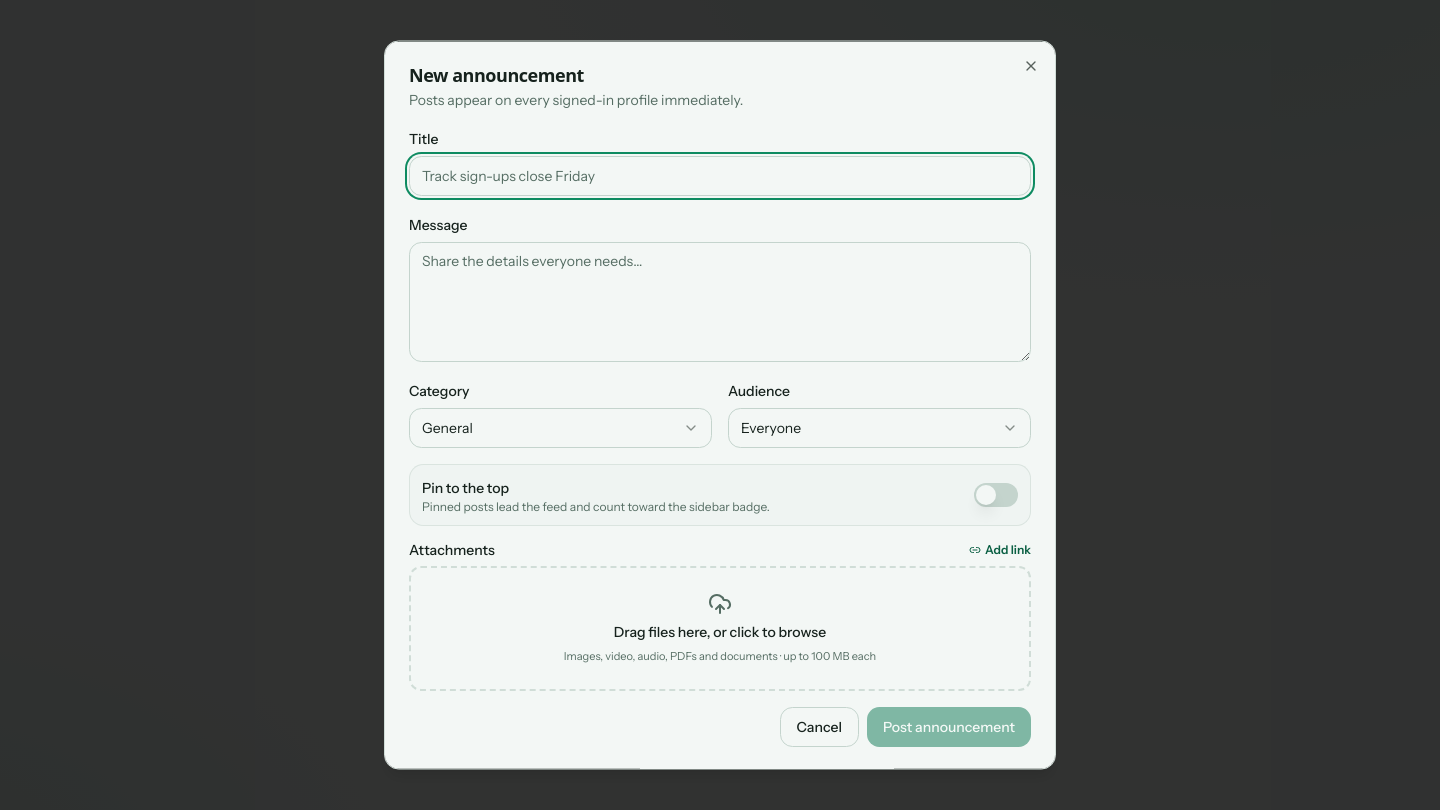
Test case: AnnouncementComposer › requires a title and body before posting
The width and height of the screenshot is (1440, 810).
Expected: the button "Post announcement" is disabled, [867,706,1031,746]
Step 1. Type "Track sign-ups close" into the field labelled "Title" → (720, 176), box [409,156,1031,196]
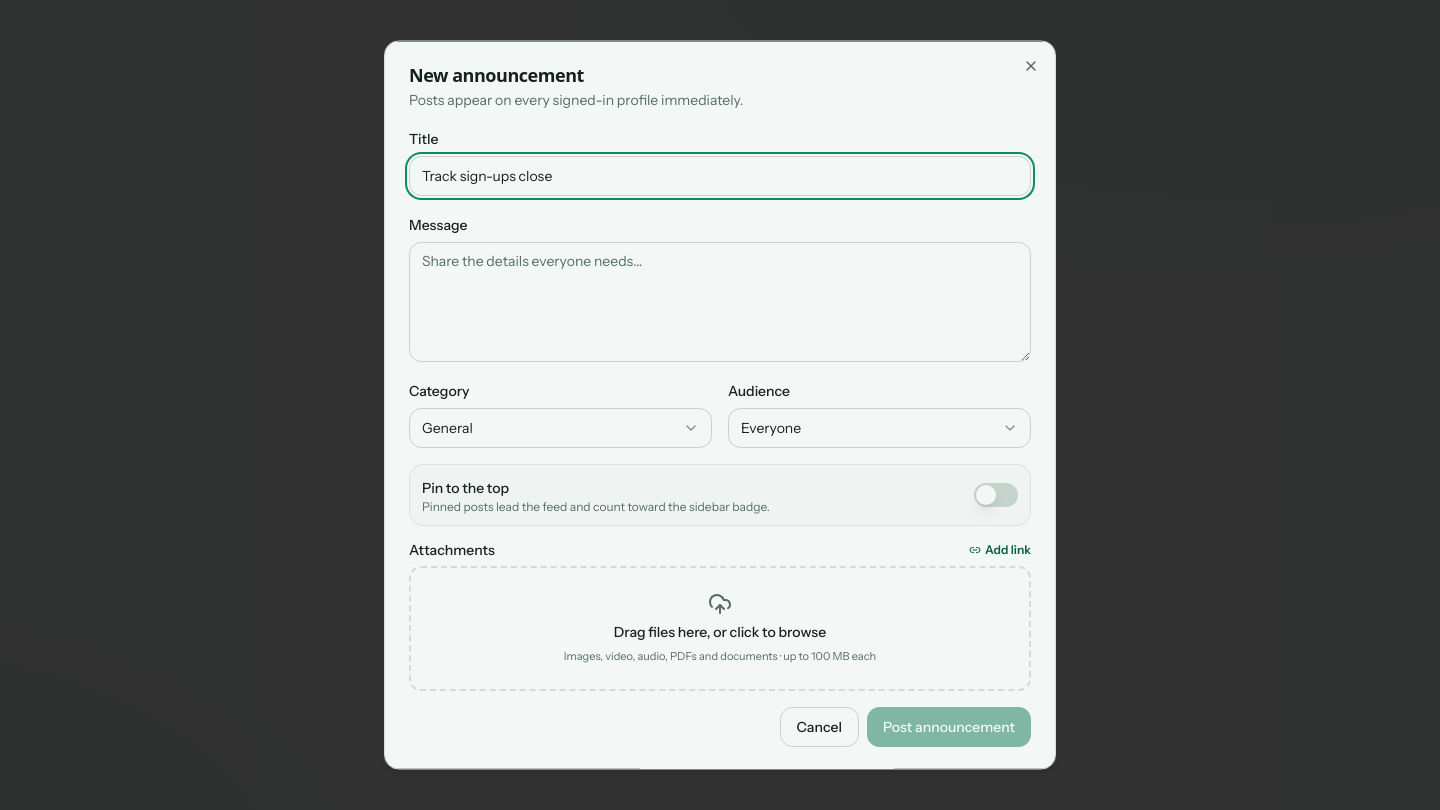
Expected: the button "Post announcement" is disabled, [867,706,1031,746]
Step 2. Type "Friday at noon." into the text box labelled "Message" → (720, 302), box [409,242,1031,362]
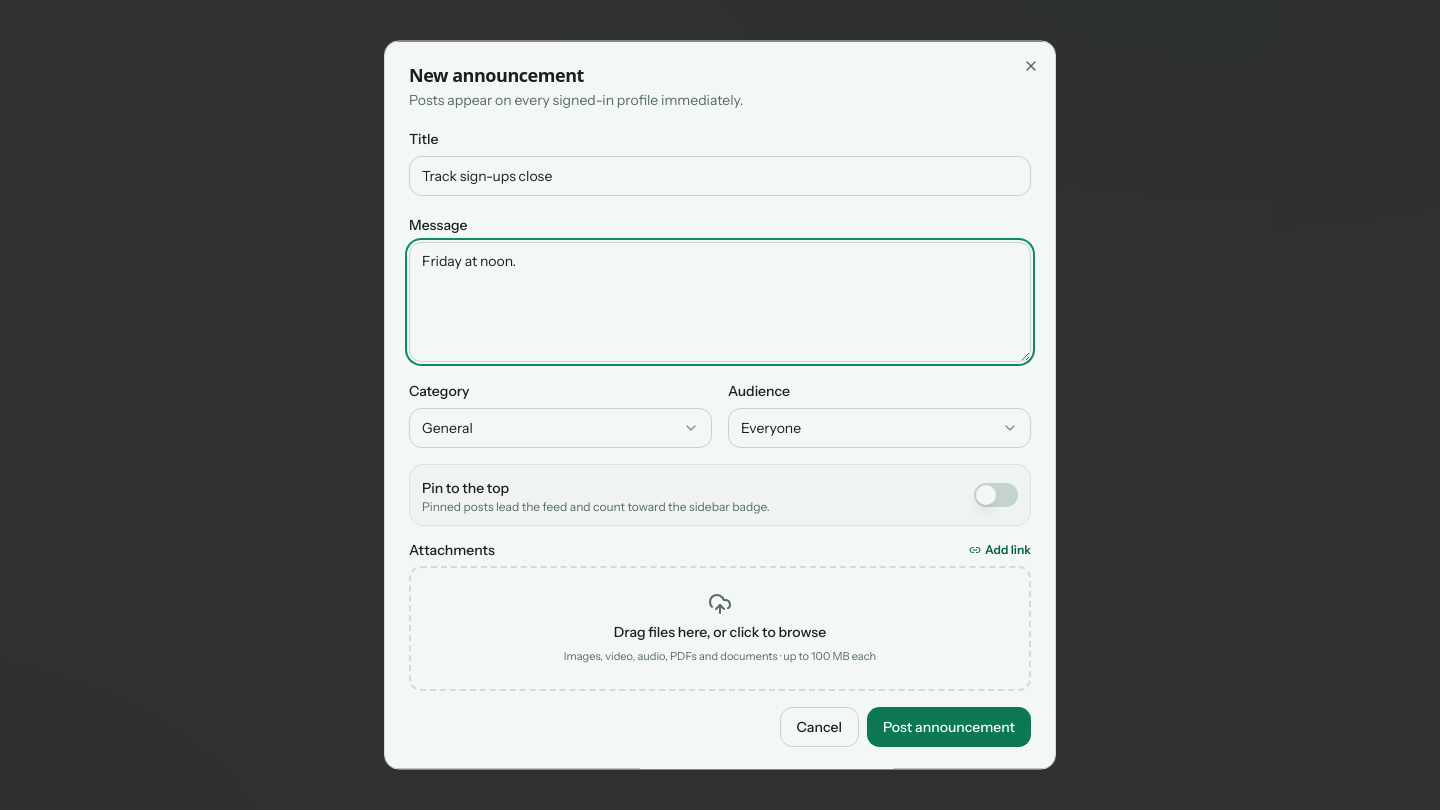
Expected: the button "Post announcement" is enabled, [867,706,1031,746]
